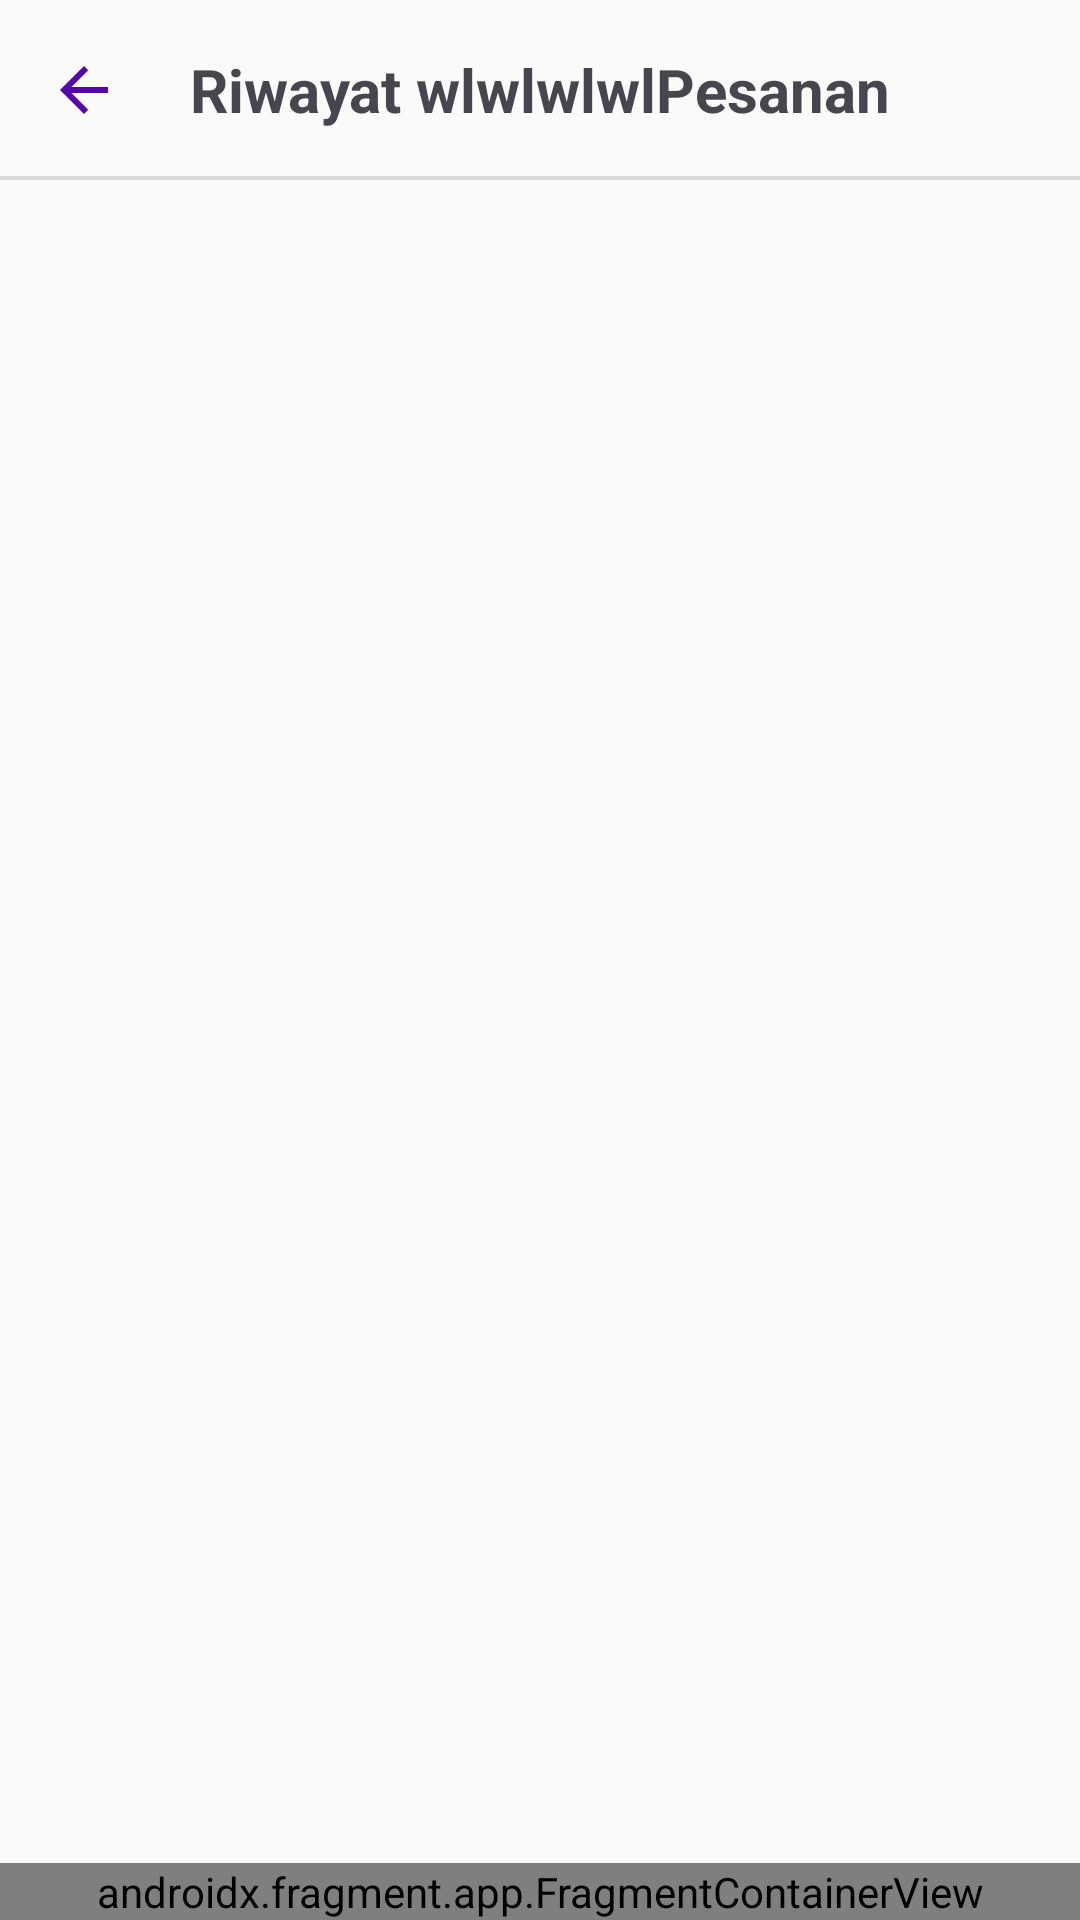

Where to tap for icons on this 1080*1920 app screen, as point (x, y):
Kembali: point (84, 90)
